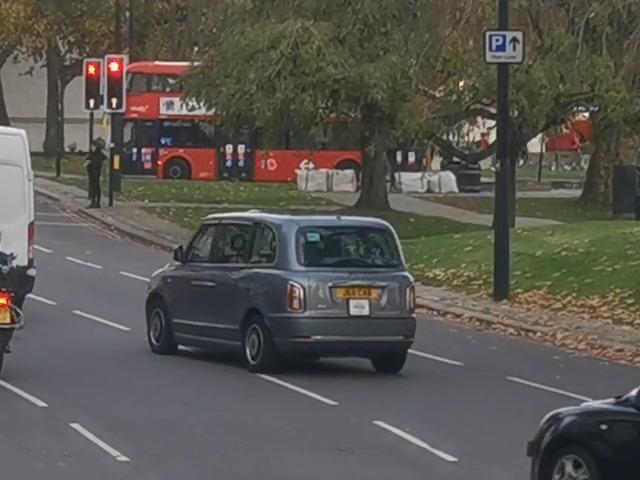bus: (110, 63, 390, 184)
car: (144, 207, 421, 368)
motorcycle: (0, 221, 43, 379)
